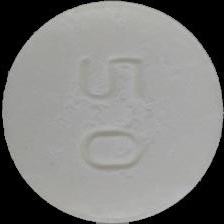64380-759: (0, 0, 224, 224)
